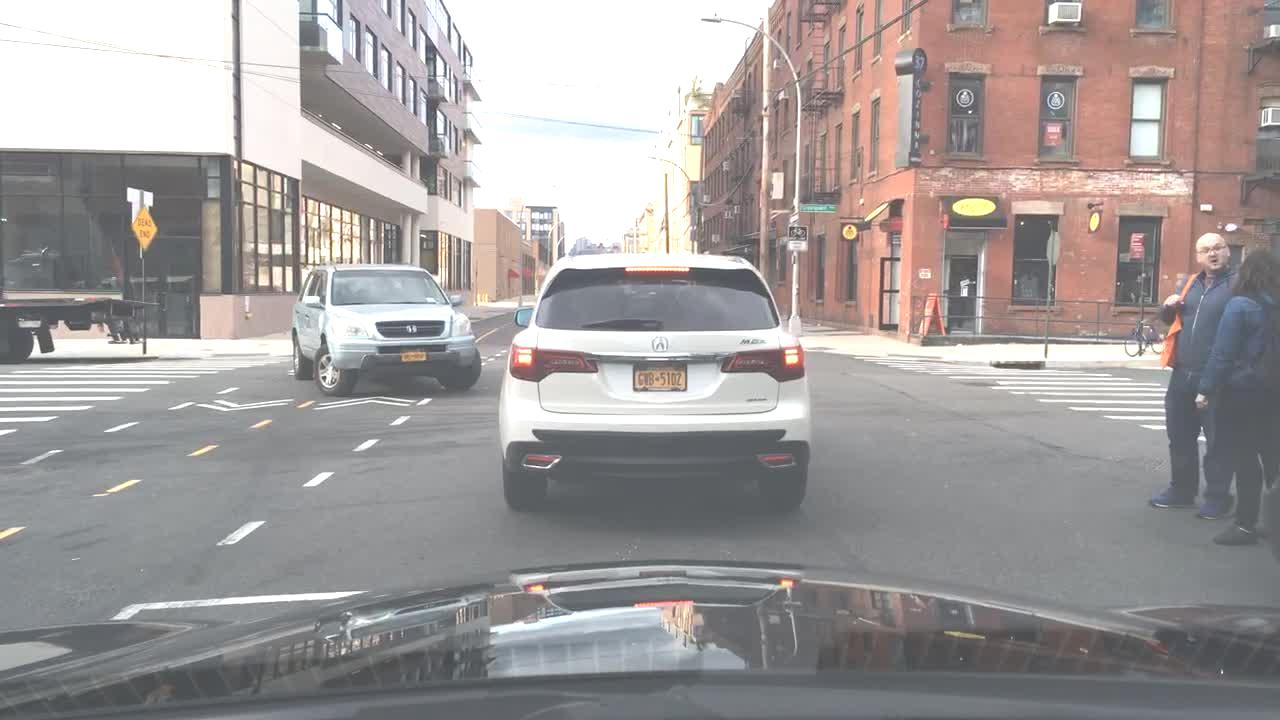Honda: (403, 320, 421, 338)
acura: (648, 327, 672, 357)
